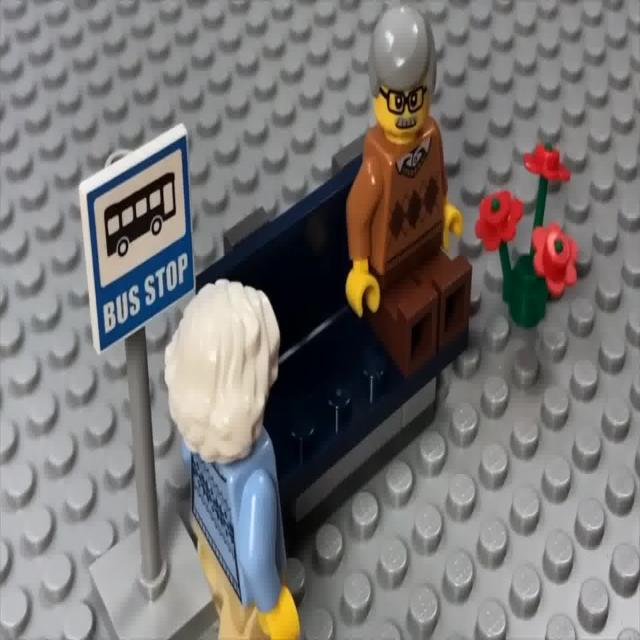4: (238, 443, 305, 640), (343, 157, 383, 342)
hand: (174, 263, 302, 640), (355, 0, 456, 379)
